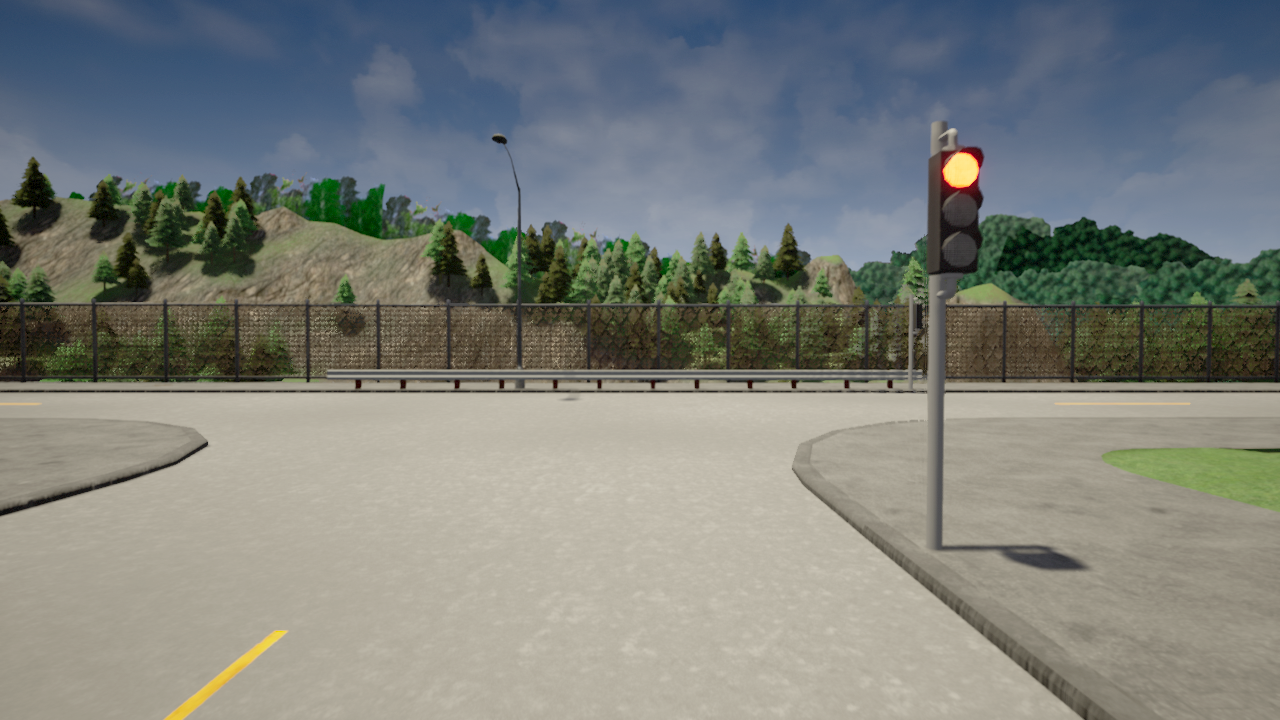red: (928, 147, 981, 280)
